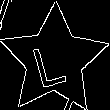L_N: (34, 32, 75, 88)
